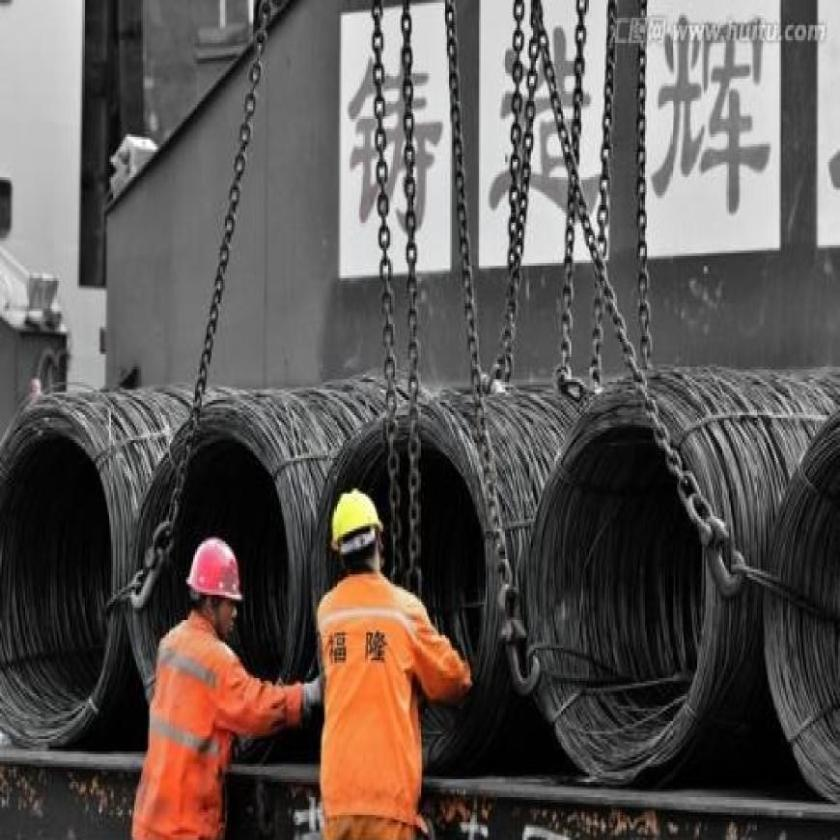Con_casco: (184, 522, 247, 647)
